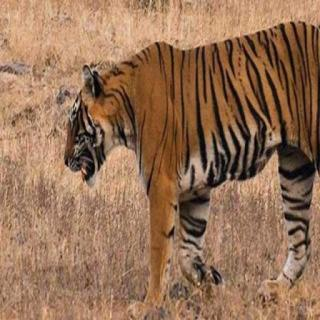Tiger: (50, 9, 320, 317)
